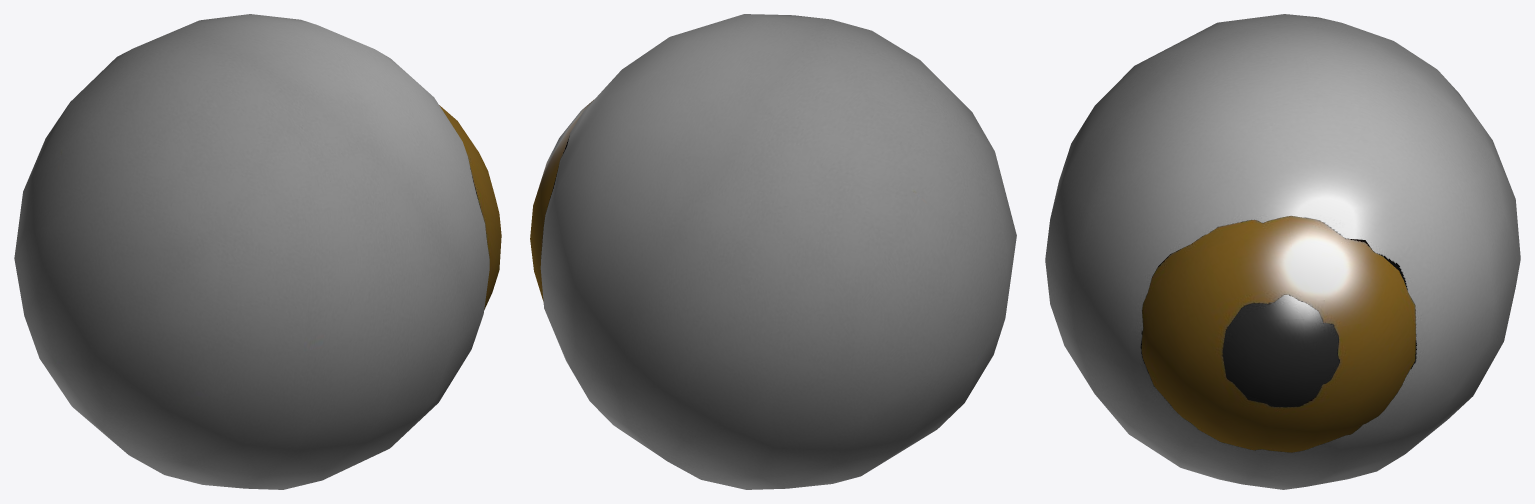
Rendered from eyeball.dae.
3 renders of one model, left to right at view 1: azimuth 30°, elevation 25°; view 2: azimuth 150°, elevation 25°; view 3: azimuth 270°, elevation 25°, orthographic.
Visible parts, largest first — view 1: Sphere_002; view 2: Sphere_002; view 3: Sphere_002.
Boxes of the visible parts, x1,y1,x2,y2 form: Sphere_002: (14, 14, 501, 489); Sphere_002: (530, 14, 1016, 489); Sphere_002: (1045, 14, 1520, 489).
Bounding box in the file's own units: 2.1 × 2 × 2.
1 material, 1 textured.
